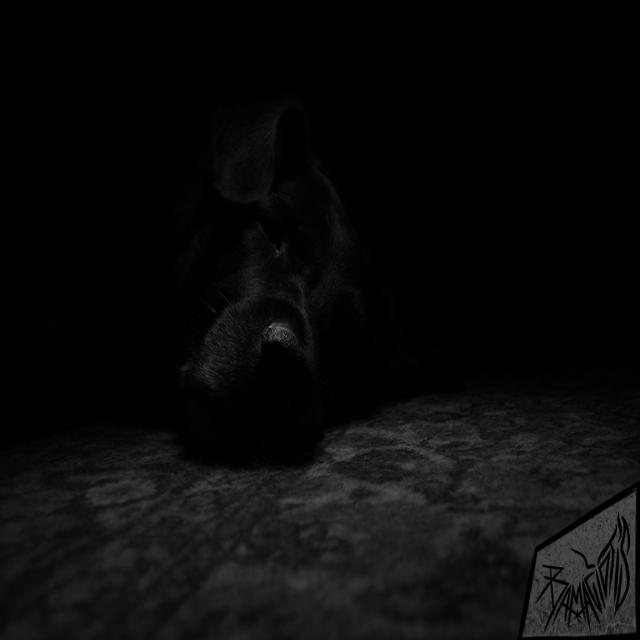Dog: (190, 121, 400, 496)
